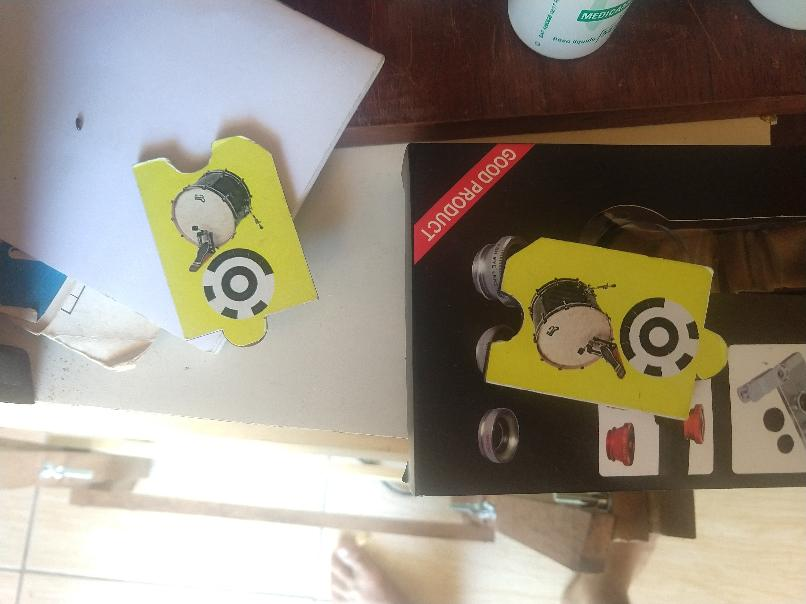bumbo: (475, 225, 735, 433), (127, 123, 323, 353)
